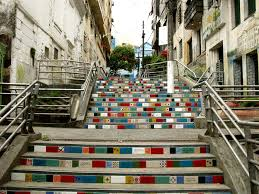escada: (27, 138, 205, 194), (92, 91, 198, 126), (100, 72, 161, 91)
